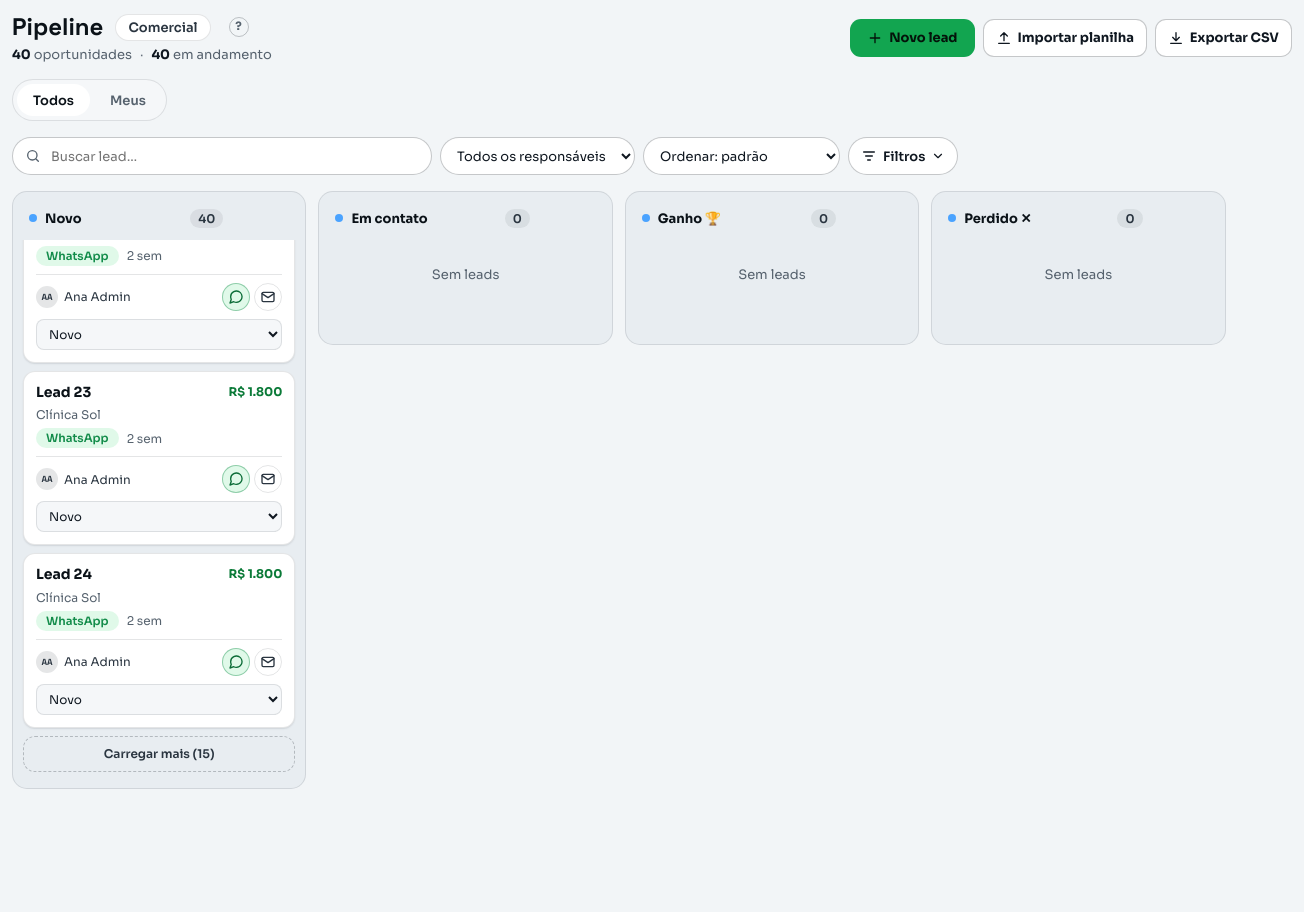
Test: F-01 paginação por coluna › mudar o filtro no meio da paginação zera as páginas e não mistura resultados
The image size is (1304, 912).
(page scrolled)
Click the button "Carregar mais (15)".
click(159, 754)  # box x1=23 y1=736 x2=295 y2=772
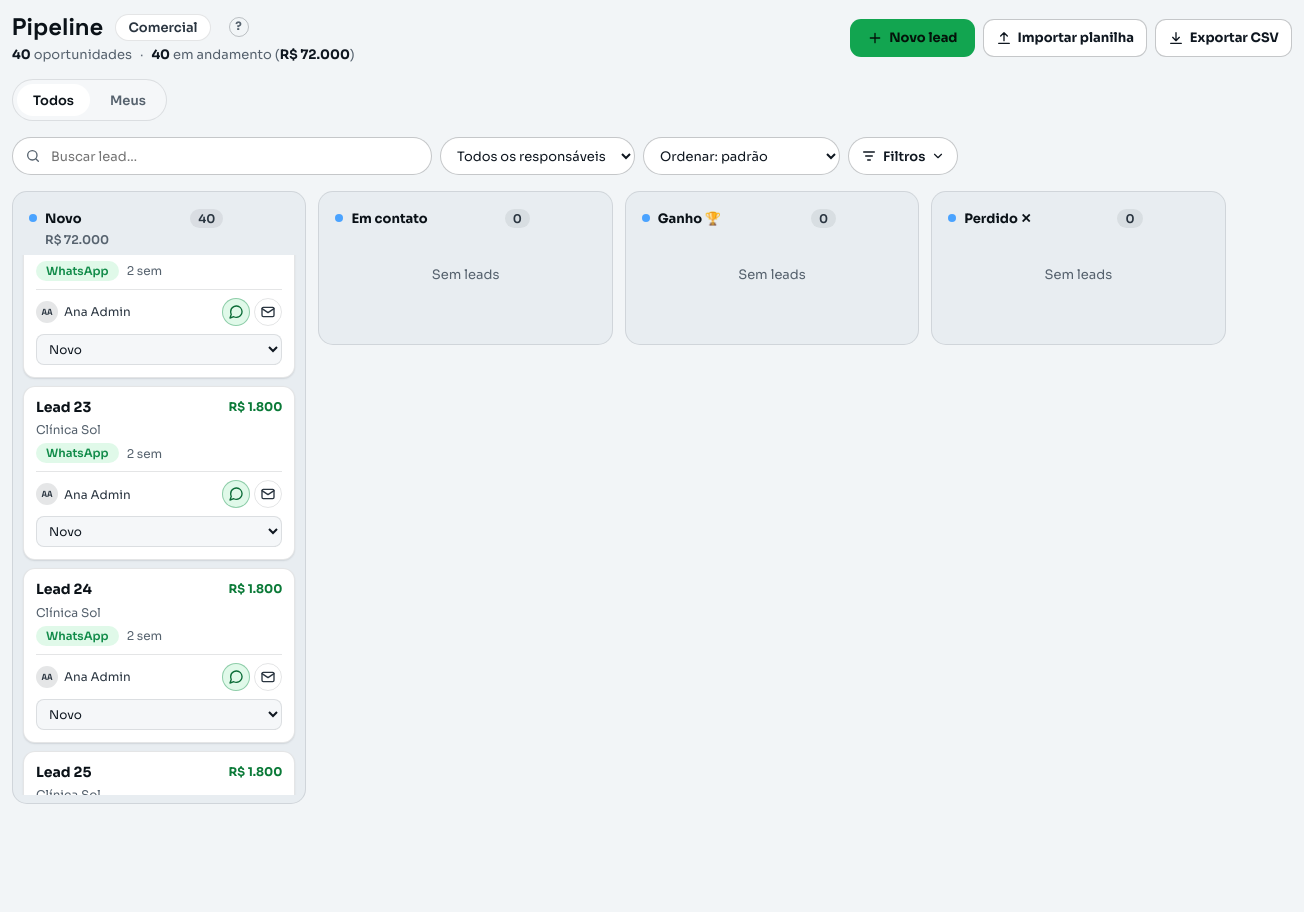
Type "zeta" into the field labelled "Buscar lead".
click(234, 156); type("zeta")  # box x1=49 y1=146 x2=419 y2=166
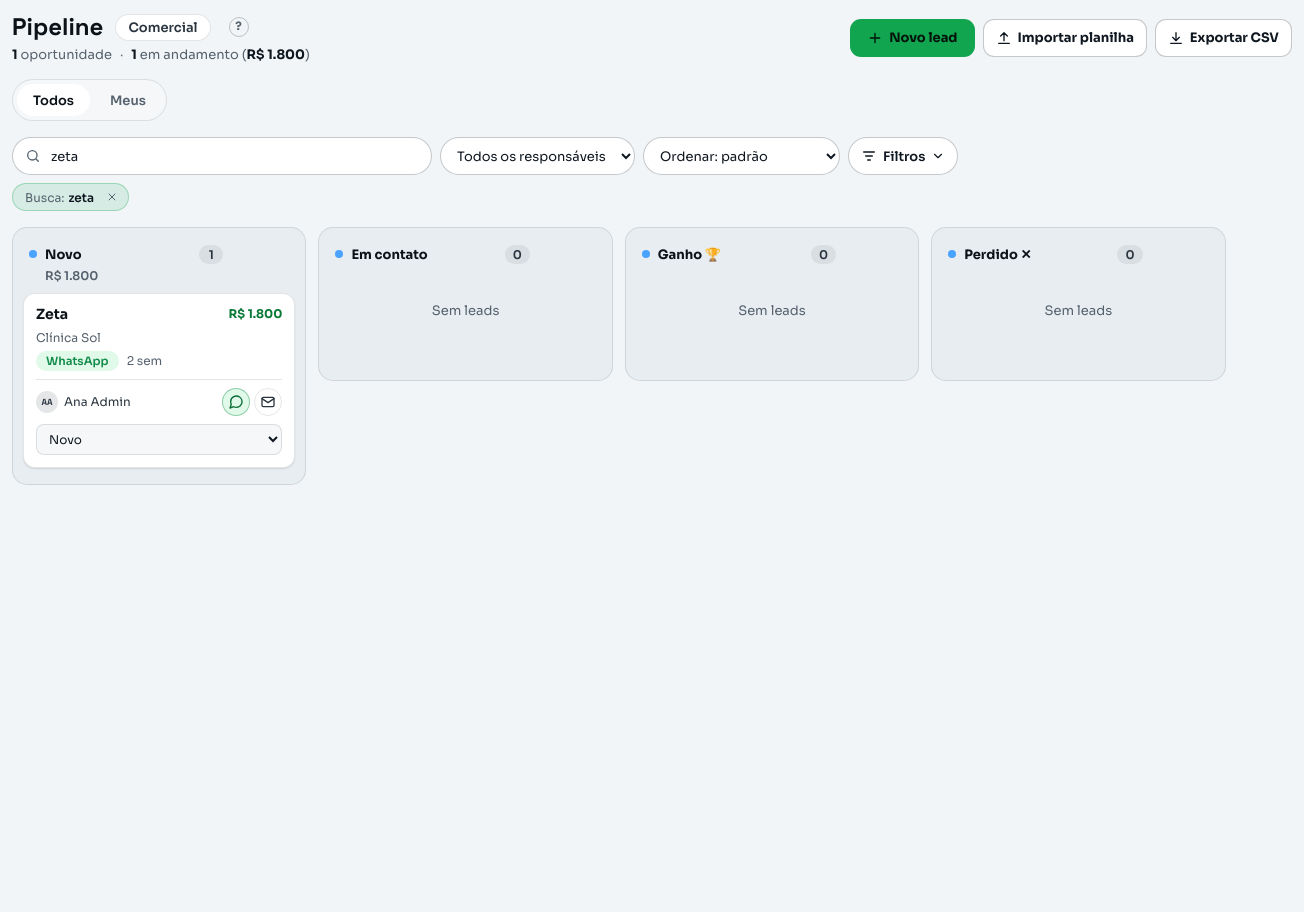
Expected: the text "Zeta" is shown, x1=36 y1=306 x2=68 y2=324
